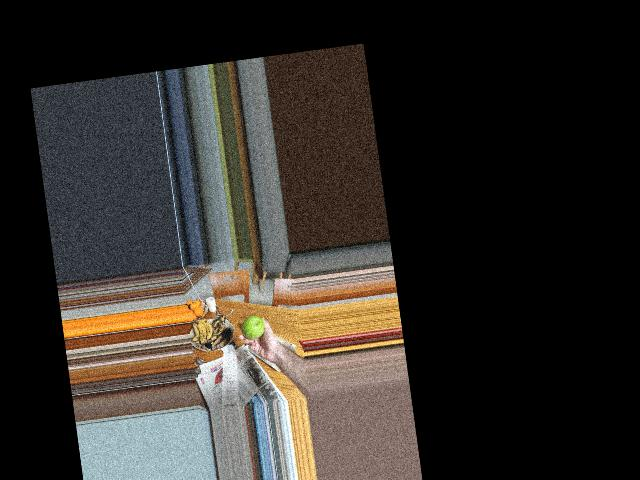apple: (240, 314, 266, 341)
